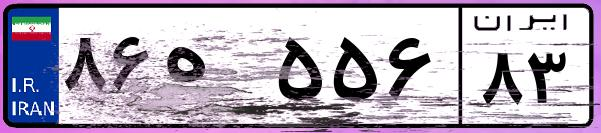3: (525, 38, 570, 115)
5: (270, 28, 330, 110), (330, 28, 385, 110)
6: (385, 28, 445, 110), (110, 28, 158, 98)
8: (57, 26, 110, 100), (475, 38, 525, 113)
ه: (158, 20, 270, 120)
